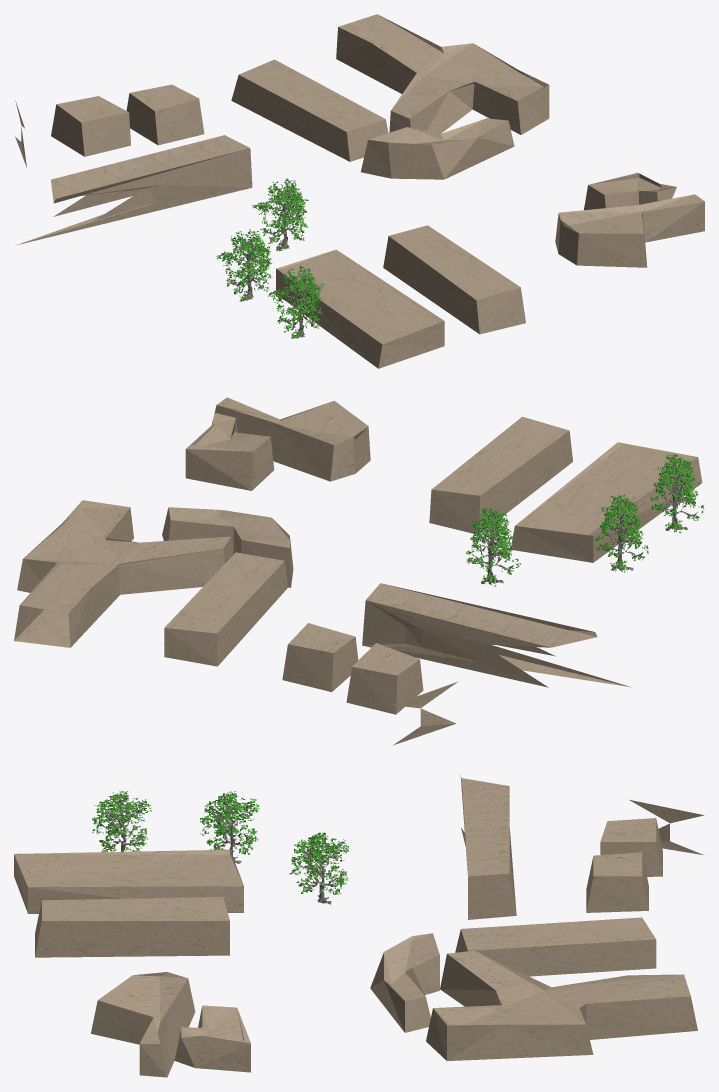
File: tile_1_1.gltf
3 views of the same model, one above another, from view 1: azimuth 30°, elevation 25°; view 2: azimuth 150°, elevation 25°; view 3: azimuth 270°, elevation 25° (orthographic). The views are drawn at different scales.
Parts seen in each view (by area): view 1: Plane.011@tile_1_1, Bodhi Tree_Bodhi_front_2_Mat_0.044@tile_1_1; view 2: Plane.011@tile_1_1, Bodhi Tree_Bodhi_front_2_Mat_0.044@tile_1_1; view 3: Plane.011@tile_1_1, Bodhi Tree_Bodhi_front_2_Mat_0.044@tile_1_1.
Boxes of the visible parts, x1=… form: Plane.011@tile_1_1: x1=15, y1=14, x2=704, y2=368; Bodhi Tree_Bodhi_front_2_Mat_0.044@tile_1_1: x1=216, y1=178, x2=324, y2=338; Plane.011@tile_1_1: x1=14, y1=397, x2=702, y2=745; Bodhi Tree_Bodhi_front_2_Mat_0.044@tile_1_1: x1=466, y1=454, x2=704, y2=586; Plane.011@tile_1_1: x1=14, y1=774, x2=704, y2=1077; Bodhi Tree_Bodhi_front_2_Mat_0.044@tile_1_1: x1=92, y1=791, x2=348, y2=904.
Bounding box in the file's own units: 84.96 × 10.96 × 89.19.
3 materials, 2 textured.
